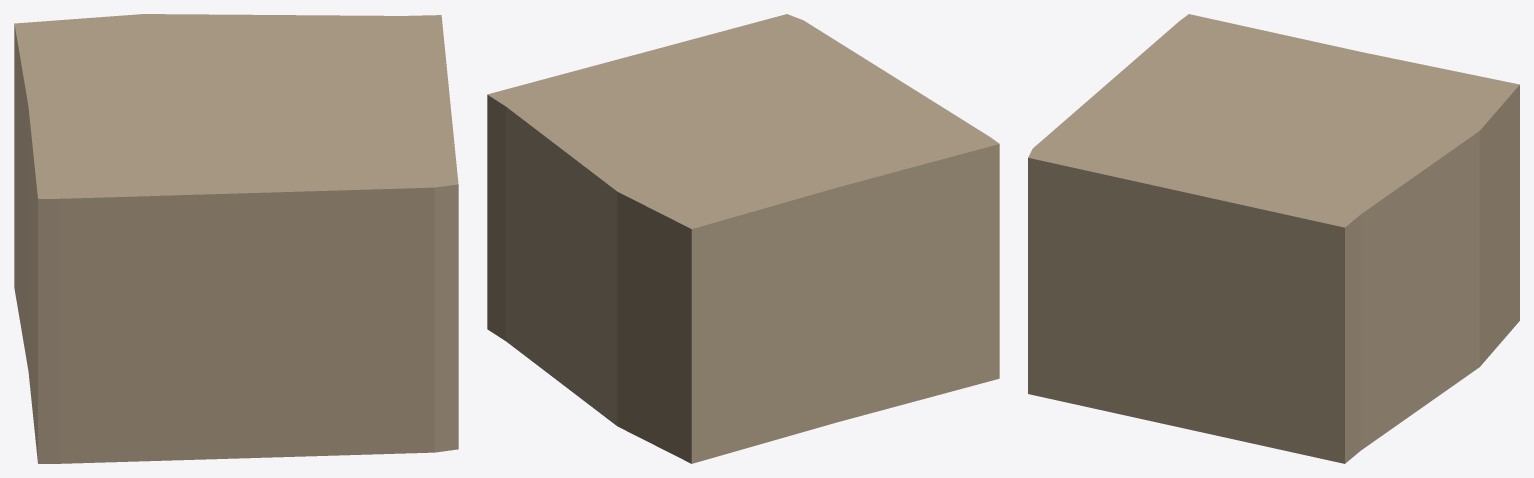
Rendered from bld_99616052.dae.
The picture shows the model from 3 angles, left to right: view 1: azimuth 30°, elevation 25°; view 2: azimuth 150°, elevation 25°; view 3: azimuth 270°, elevation 25°; orthographic projection. The views are drawn at different scales.
Parts seen in each view (by area): view 1: bld_99616052; view 2: bld_99616052; view 3: bld_99616052.
Boxes of the visible parts, x1,y1,x2,y2 form: bld_99616052: (14,14,458,463); bld_99616052: (487,14,999,463); bld_99616052: (1028,14,1519,463).
Bounding box in the file's own units: 15.52 × 15.09 × 8.
